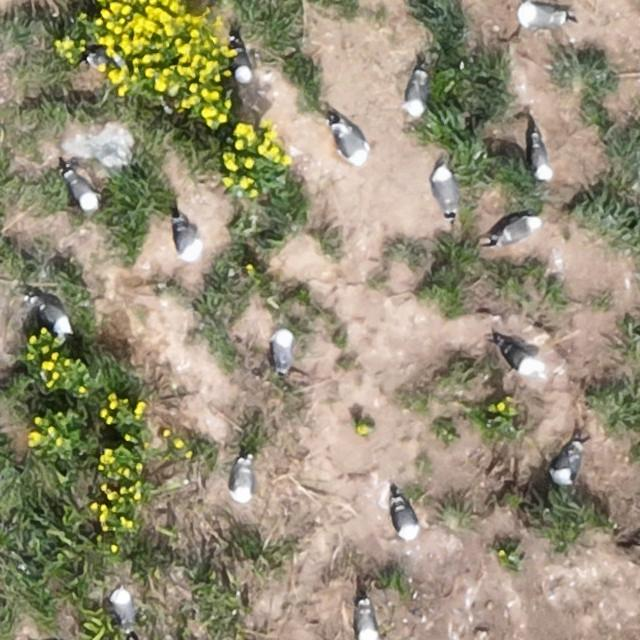umineko: (172, 214, 205, 267), (336, 124, 366, 162), (37, 300, 71, 333), (70, 175, 98, 211), (552, 448, 579, 484), (394, 500, 419, 538), (434, 170, 456, 213), (521, 7, 566, 28), (498, 218, 536, 242), (408, 71, 428, 113), (272, 330, 292, 370), (232, 462, 253, 500), (113, 590, 134, 628), (533, 138, 552, 178), (503, 344, 530, 370), (358, 606, 377, 640), (233, 50, 251, 82)
